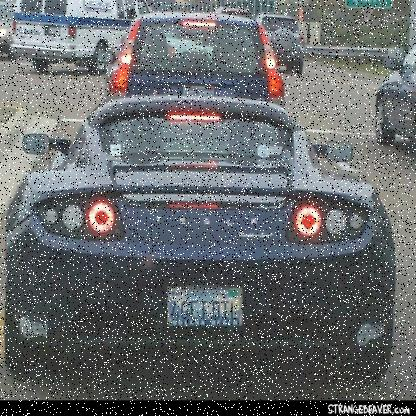licence: (164, 284, 242, 330)
